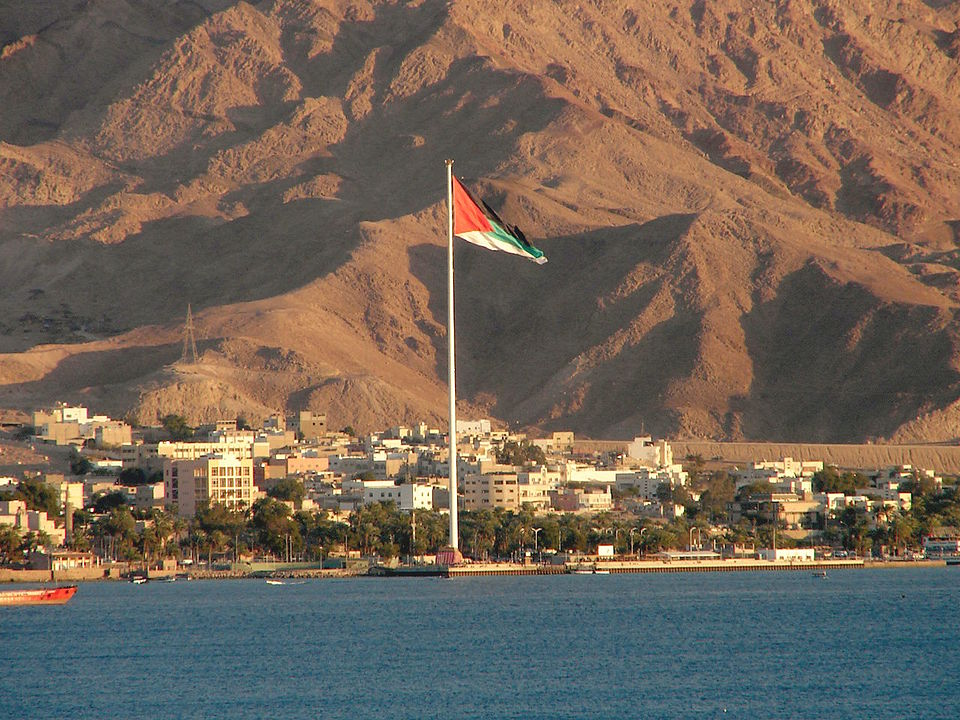Flag: (449, 178, 546, 266)
